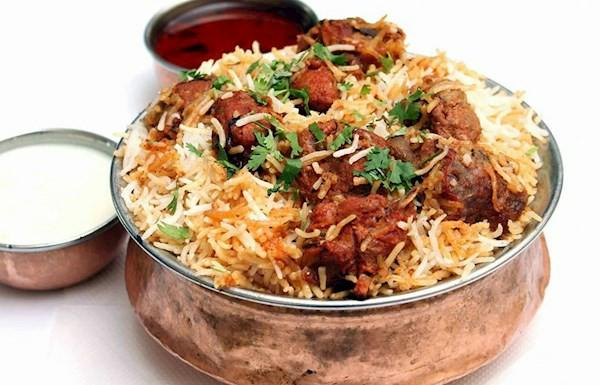Biryani: (112, 13, 545, 300)
